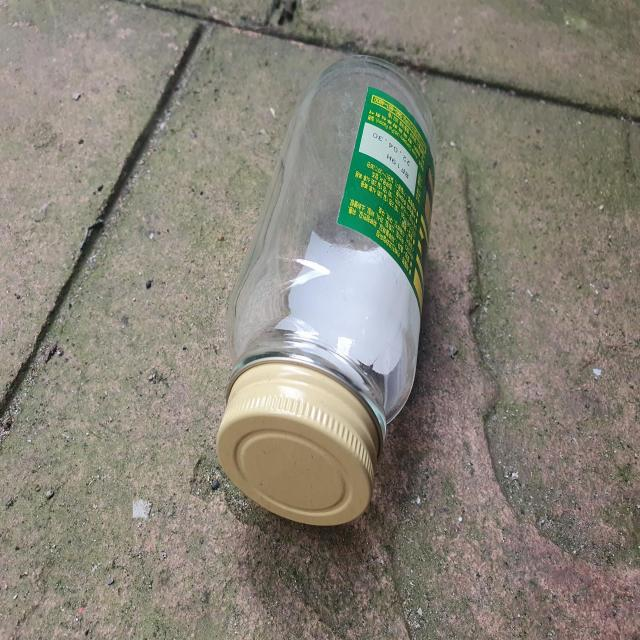glass: (217, 55, 436, 526)
